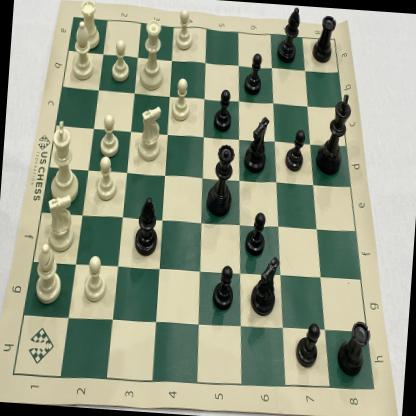bishop: (31, 240, 66, 306), (67, 20, 98, 82), (132, 196, 161, 260), (275, 4, 303, 66)
king: (314, 88, 354, 180), (46, 117, 84, 206)
knight: (42, 192, 79, 254), (248, 252, 282, 319), (134, 105, 165, 164), (243, 113, 271, 176)
pawn: (293, 318, 322, 372), (91, 156, 122, 204), (82, 255, 109, 306), (210, 263, 236, 312), (108, 38, 134, 87), (97, 110, 122, 160), (210, 87, 236, 135), (172, 5, 198, 53), (170, 76, 196, 124), (242, 210, 268, 257), (240, 50, 266, 97), (283, 128, 308, 176)
queen: (136, 14, 169, 95), (205, 141, 236, 220)
rook: (335, 316, 373, 378), (311, 12, 339, 67), (77, 0, 104, 52)
